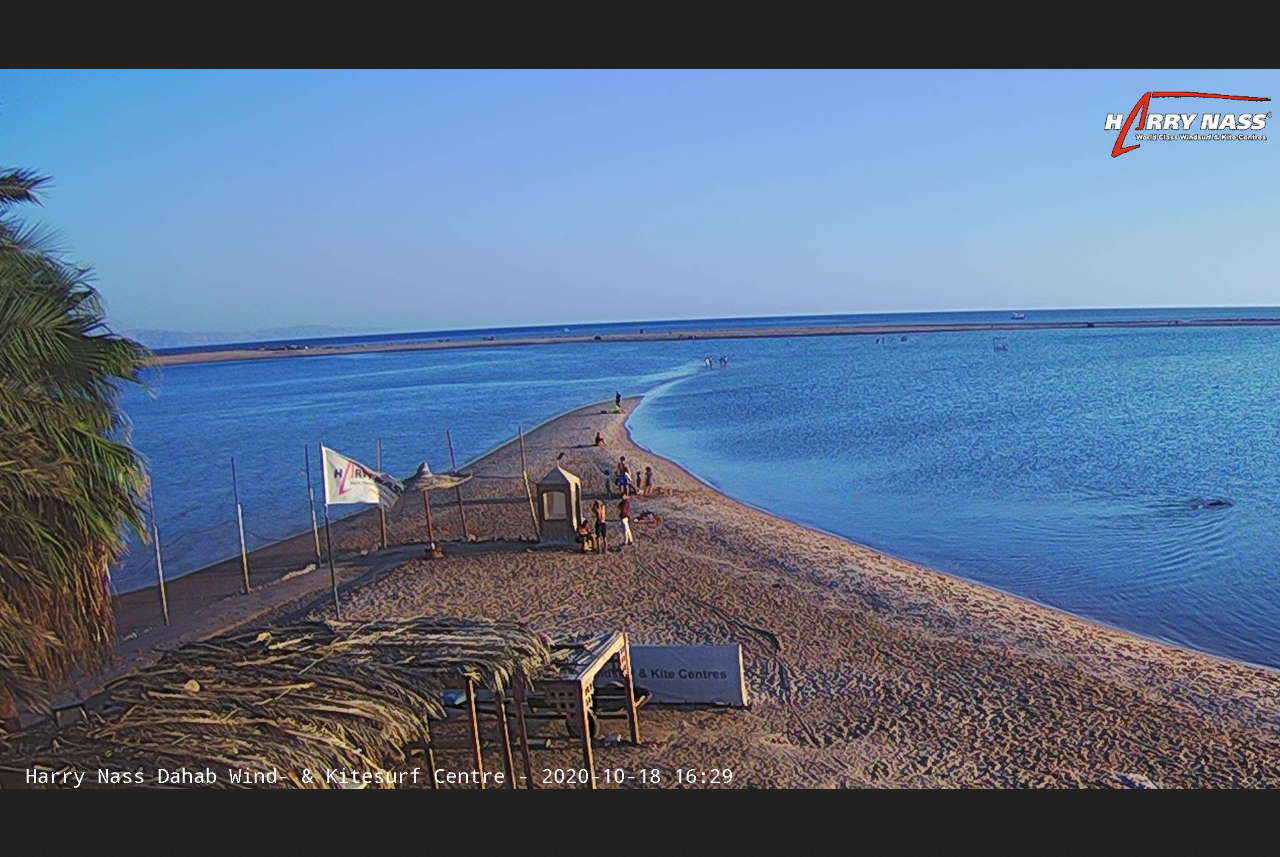maybe: (313, 437, 410, 512)
